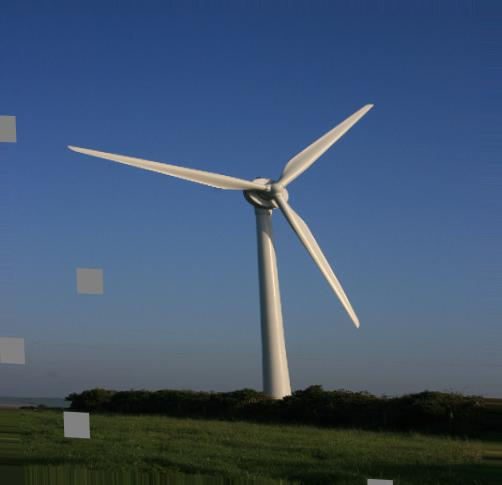wind turbine: (63, 102, 375, 396)
